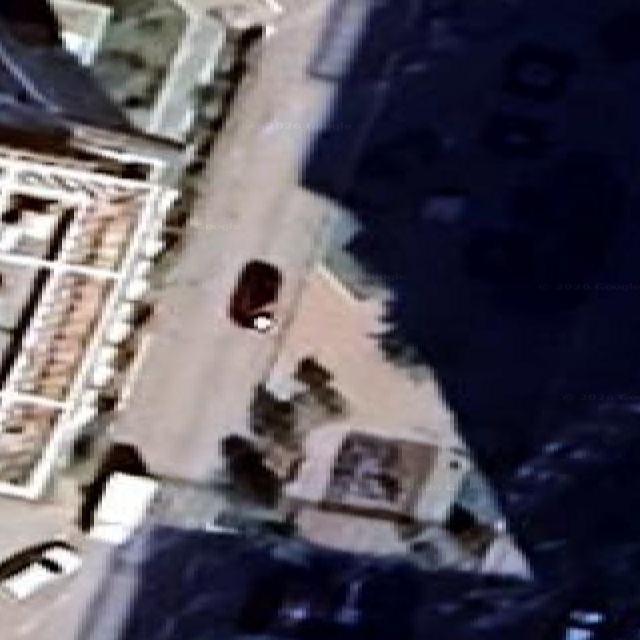car: (0, 541, 80, 599), (229, 260, 281, 331)
